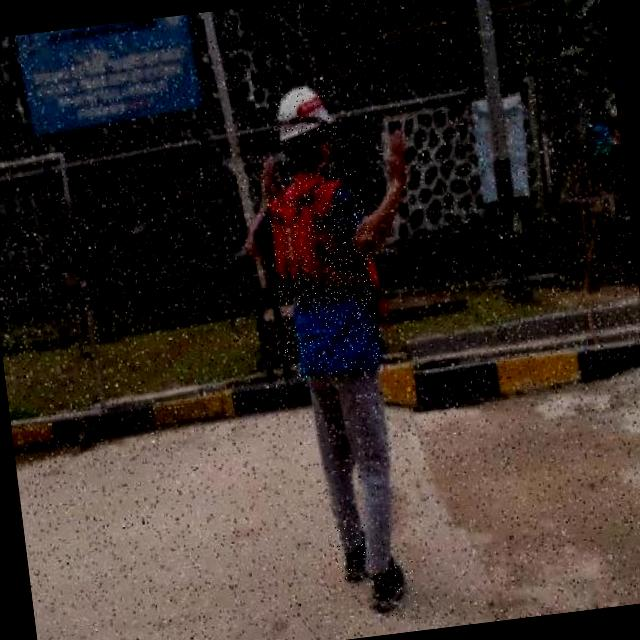boots: (358, 548, 422, 626), (328, 523, 372, 583)
helmet: (272, 78, 340, 144)
vest: (262, 167, 387, 382)
